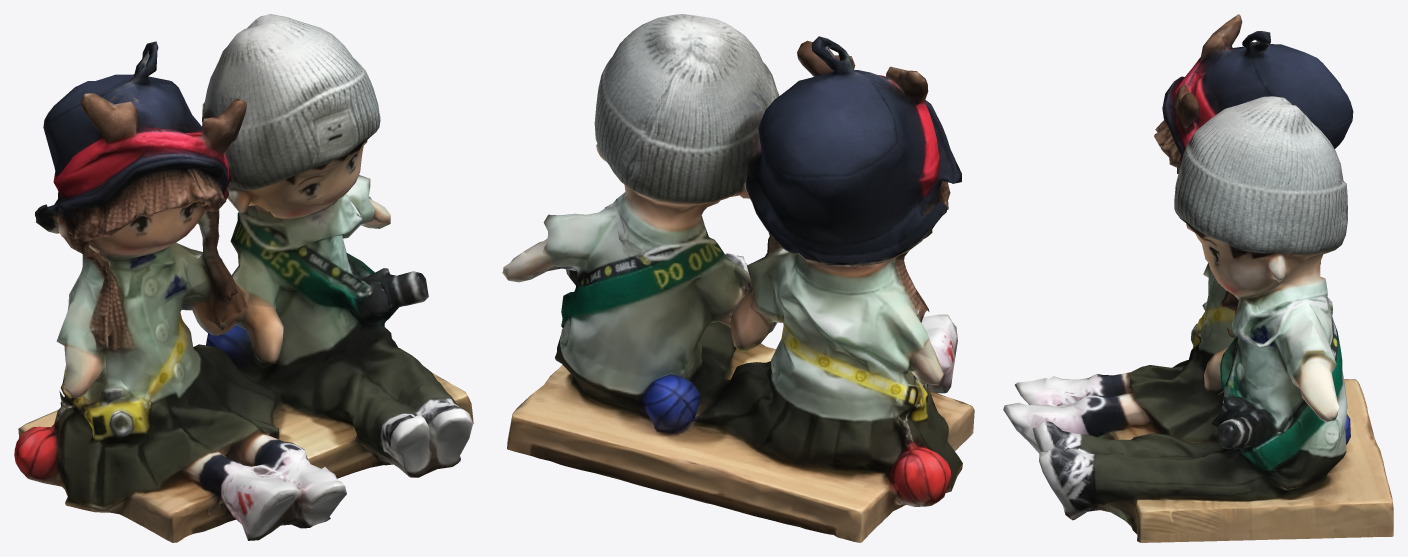
Rendered from ssshbgbld.glb.
3 views of the same model, side by side, from view 1: azimuth 30°, elevation 25°; view 2: azimuth 150°, elevation 25°; view 3: azimuth 270°, elevation 25° (orthographic). The views are drawn at different scales.
Parts seen in each view (by area): view 1: 3DModel_LowPoly; view 2: 3DModel_LowPoly; view 3: 3DModel_LowPoly.
Boxes of the visible parts, left/top/right/bottom form: 3DModel_LowPoly: left=14, top=14, right=473, bottom=542; 3DModel_LowPoly: left=502, top=14, right=974, bottom=542; 3DModel_LowPoly: left=1003, top=14, right=1393, bottom=542.
Size of the model in its own units: 0.5369 by 0.5517 by 0.4647.
Materials: 1 (1 with a texture image).
